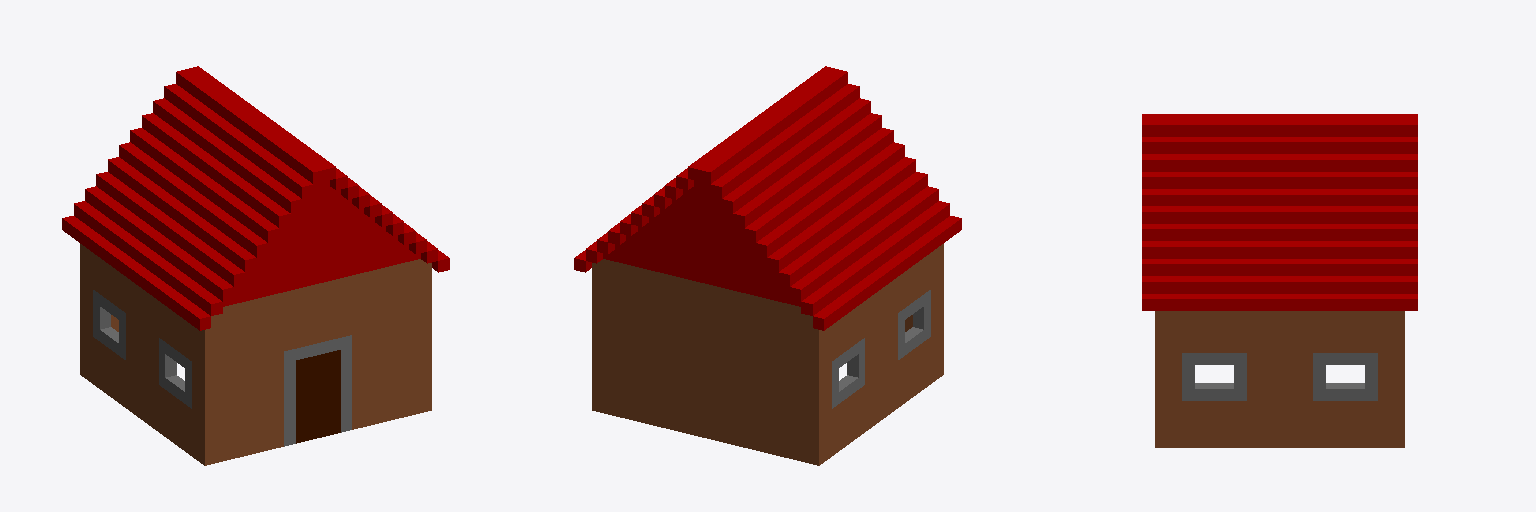
3 renders of one model, left to right at view 1: azimuth 30°, elevation 25°; view 2: azimuth 150°, elevation 25°; view 3: azimuth 270°, elevation 25°, orthographic.
Size of the model in its own units: 44 by 46 by 42.
1 materials, 1 textured.